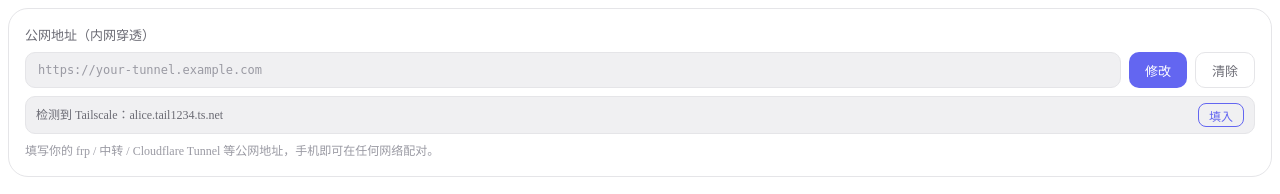
PublicUrlConfig › shows a detected Tailscale domain and applies it to the input
Expected: the text "检测到 Tailscale：alice.tail1234.ts.net" is shown, [36, 106, 223, 124]
Step 1. Click the button "填入" → (1221, 115), box [1198, 103, 1244, 127]
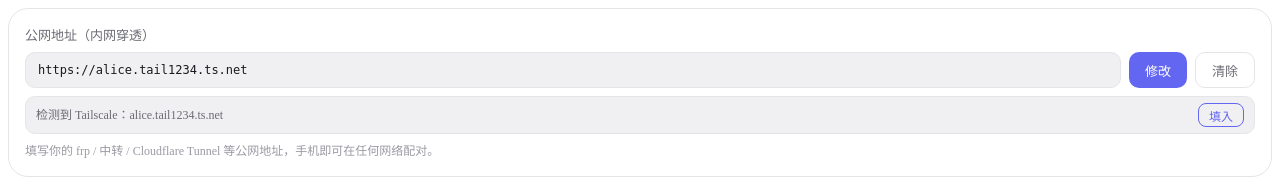
Expected: the field named "公网地址（内网穿透）" holds "https://alice.tail1234.ts.net", [25, 52, 1121, 88]
